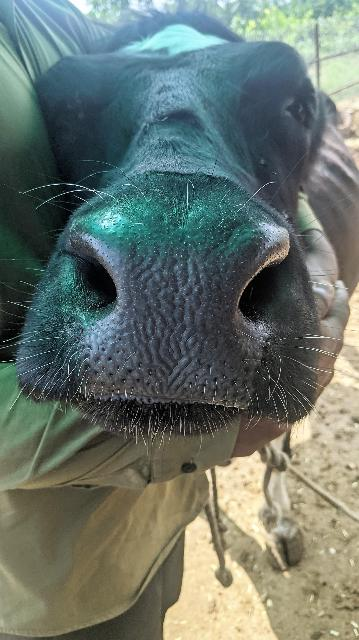Muzzle: (103, 217, 247, 401)
